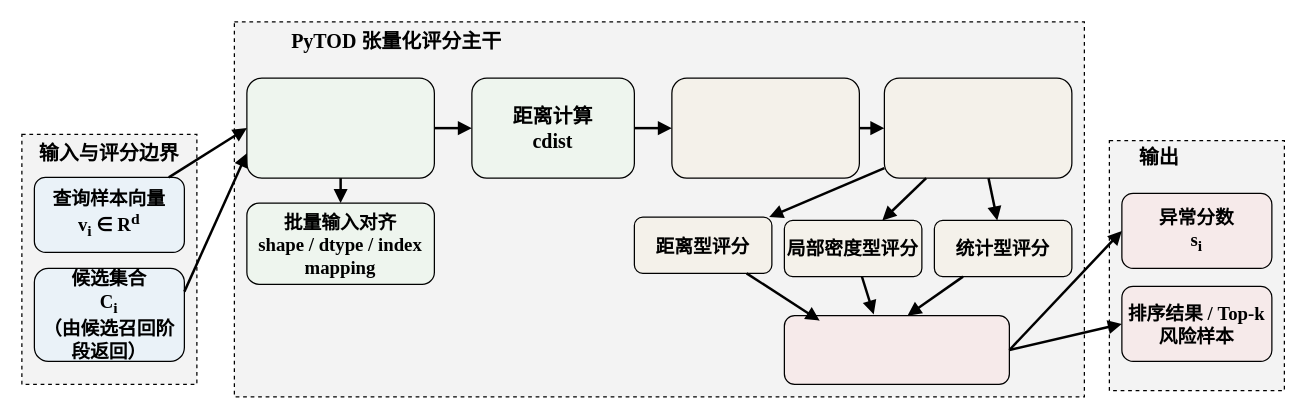
The diagram is 1306 pixels wide and 419 high, and some of its shapes have lost their labels. Here are the shapes that lost their labels. From the top down, the centre of each, then its label:
At (340,127): "候选张量组织 Query–Candidate Tensorization".
At (765,127): "局部排序 / 筛选 topk / local ranking".
At (977,127): "局部聚合统计 distance / density / feature statistics".
At (896,349): "统一评分接口 score normalization / unified output".
